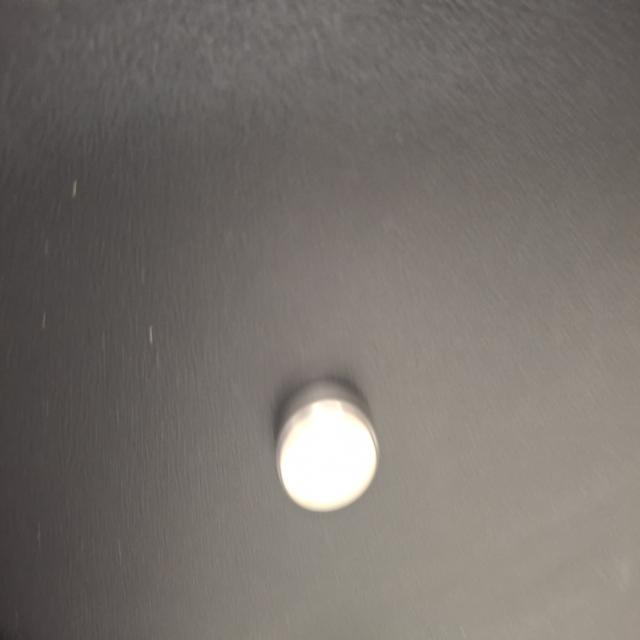COIN: (287, 350, 383, 484)
